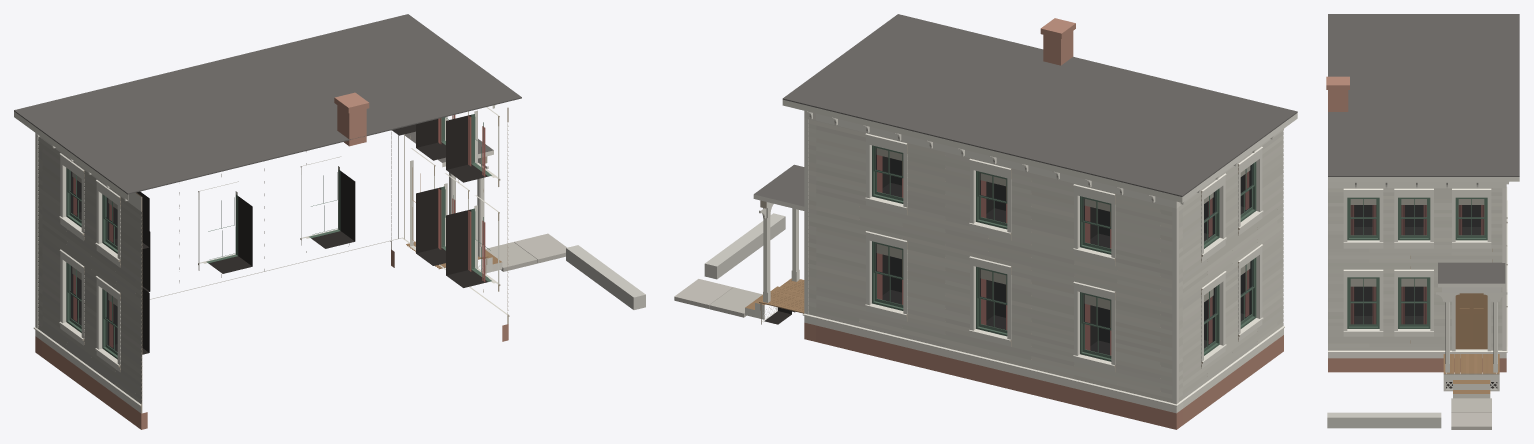
The model's file is house_1611_prairie__as_mapped_1904.glb.
3 views of the same model, side by side, from view 1: azimuth 30°, elevation 25°; view 2: azimuth 150°, elevation 25°; view 3: azimuth 270°, elevation 25° (orthographic). The views are drawn at different scales.
Parts seen in each view (by area): view 1: house_1611_prairie__as_mapped_1904; view 2: house_1611_prairie__as_mapped_1904; view 3: house_1611_prairie__as_mapped_1904.
Boxes of the visible parts, x1,y1,x2,y2 form: house_1611_prairie__as_mapped_1904: (14, 14, 645, 429); house_1611_prairie__as_mapped_1904: (674, 14, 1297, 429); house_1611_prairie__as_mapped_1904: (1326, 14, 1519, 429).
Size of the model in its own units: 14.89 by 7.54 by 5.72.
